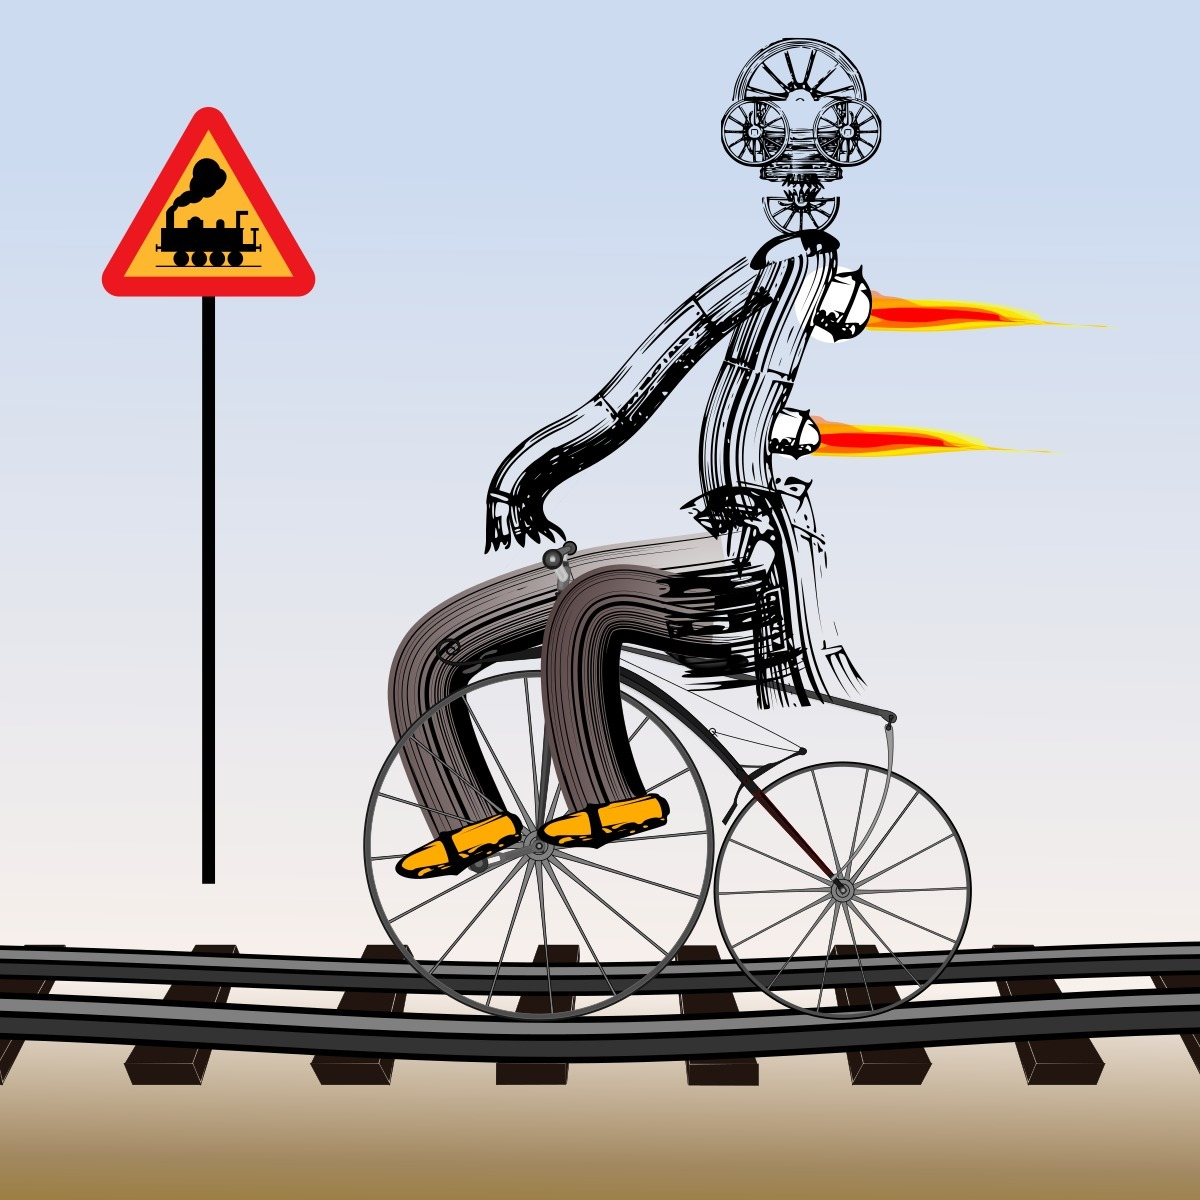bicycle: (341, 532, 981, 1032)
